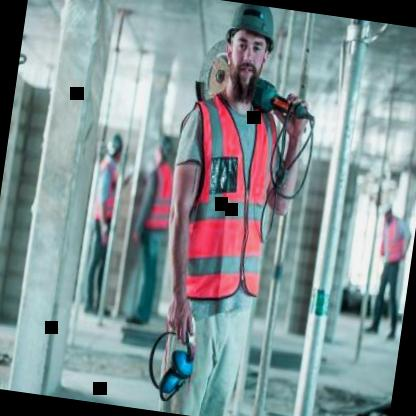helmet: (216, 1, 282, 102), (100, 128, 128, 166), (152, 128, 174, 165)
